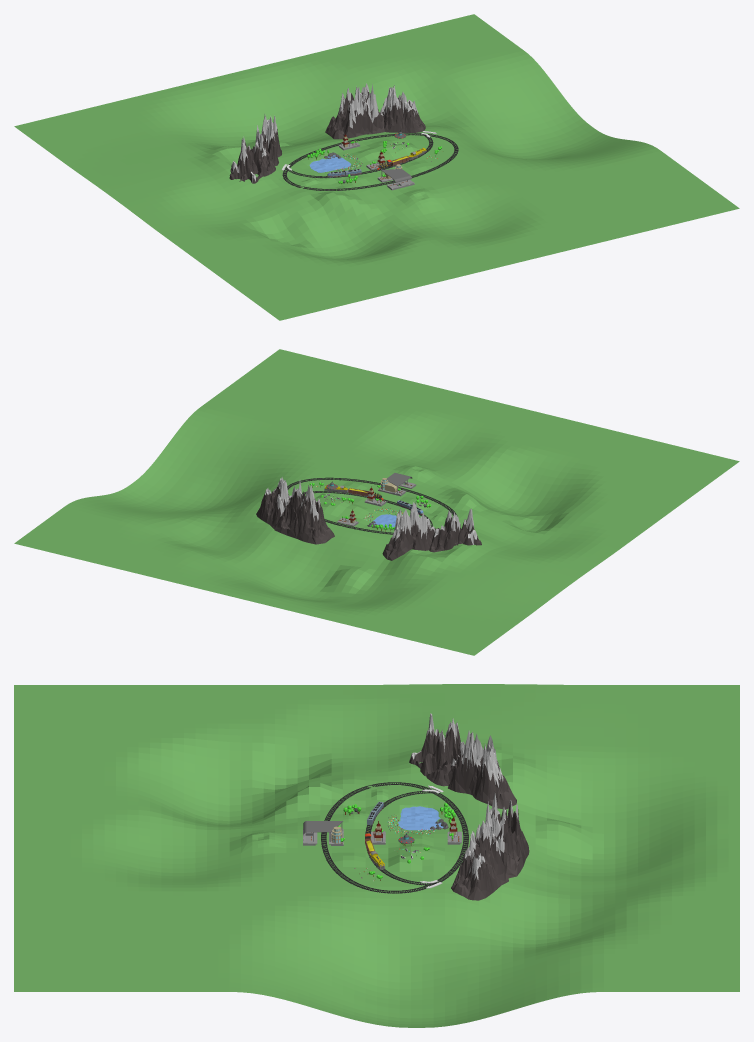
The model's file is project_gamedev.fbx.
3 views of the same model, one above another, from view 1: azimuth 30°, elevation 25°; view 2: azimuth 150°, elevation 25°; view 3: azimuth 270°, elevation 25° (orthographic). The views are drawn at different scales.
Parts seen in each view (by area): view 1: Plane, mountains_2, mountains_1, mountains_4, rails, mountains_5; view 2: Plane, mountains_2, mountains_5, mountains_4, mountains_1, rails; view 3: Plane, mountains_5, mountains_1, mountains_2, mountains_4, rails, lake.
Boxes of the visible parts, <box> form: Plane: <box>14,14,739,320</box>; mountains_2: <box>325,83,384,139</box>; mountains_1: <box>380,85,425,132</box>; mountains_4: <box>229,136,275,183</box>; rails: <box>282,133,458,190</box>; mountains_5: <box>255,114,281,166</box>; Plane: <box>14,349,739,655</box>; mountains_2: <box>274,479,334,544</box>; mountains_5: <box>382,501,435,560</box>; mountains_4: <box>429,508,481,552</box>; mountains_1: <box>256,477,289,529</box>; rails: <box>287,477,457,534</box>; Plane: <box>14,684,739,1027</box>; mountains_5: <box>444,730,516,809</box>; mountains_1: <box>451,820,508,900</box>; mountains_2: <box>485,792,529,878</box>; mountains_4: <box>409,713,464,786</box>; rails: <box>321,782,468,893</box>; lake: <box>398,806,443,830</box>.
Size of the model in its own units: 29650 by 4913 by 29650.
